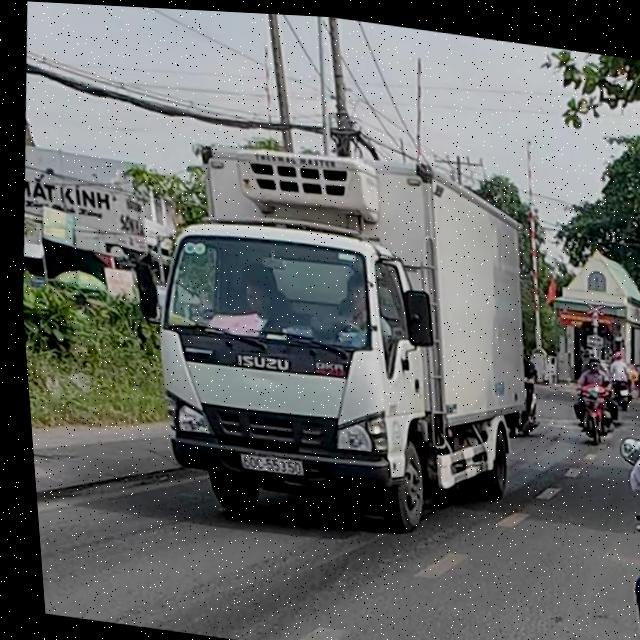car: (120, 132, 562, 570)
motorcycle: (564, 374, 622, 457)
plate: (232, 439, 311, 485)
